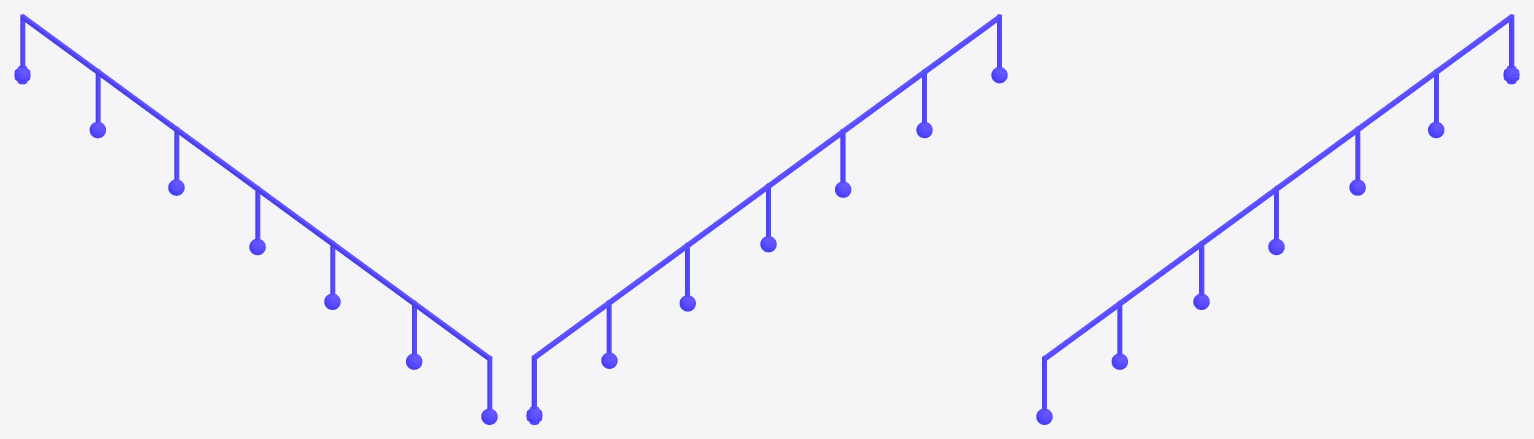
The model's file is SegnStaff.gltf.
3 renders of one model, left to right at view 1: azimuth 30°, elevation 25°; view 2: azimuth 150°, elevation 25°; view 3: azimuth 330°, elevation 25°, orthographic.
Visible parts, largest first — view 1: ListnerModuli.012; view 2: ListnerModuli.012; view 3: ListnerModuli.012.
Part boxes in pixels (x1=…): ListnerModuli.012: x1=14, y1=14, x2=497, y2=424; ListnerModuli.012: x1=526, y1=14, x2=1007, y2=424; ListnerModuli.012: x1=1036, y1=14, x2=1519, y2=424.
Size of the model in its own units: 0.0421 by 0.1898 by 2.41.
